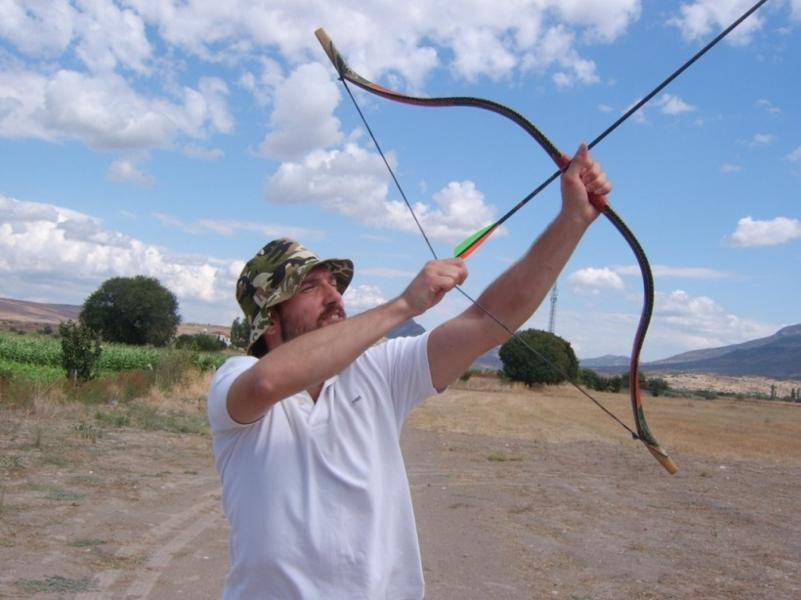person: (210, 137, 616, 600)
